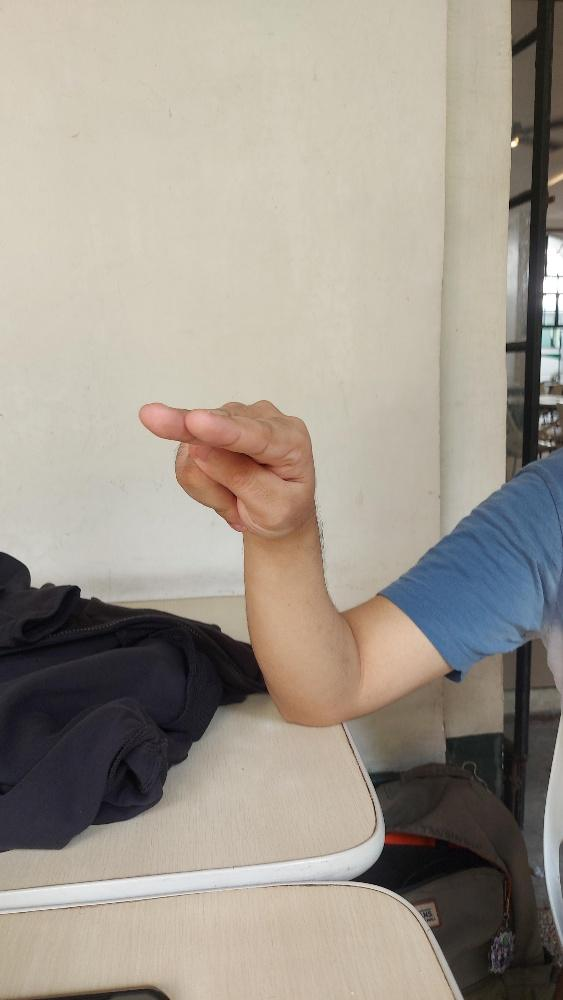n: (138, 398, 315, 538)
